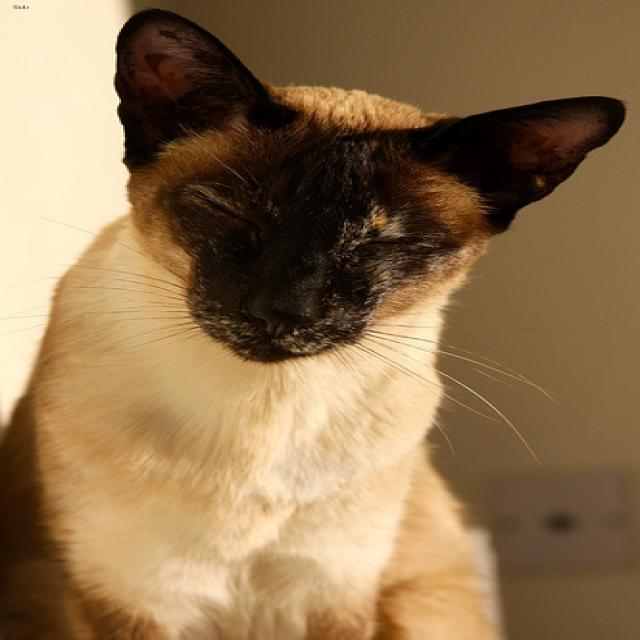Siamese: (113, 8, 623, 362)
